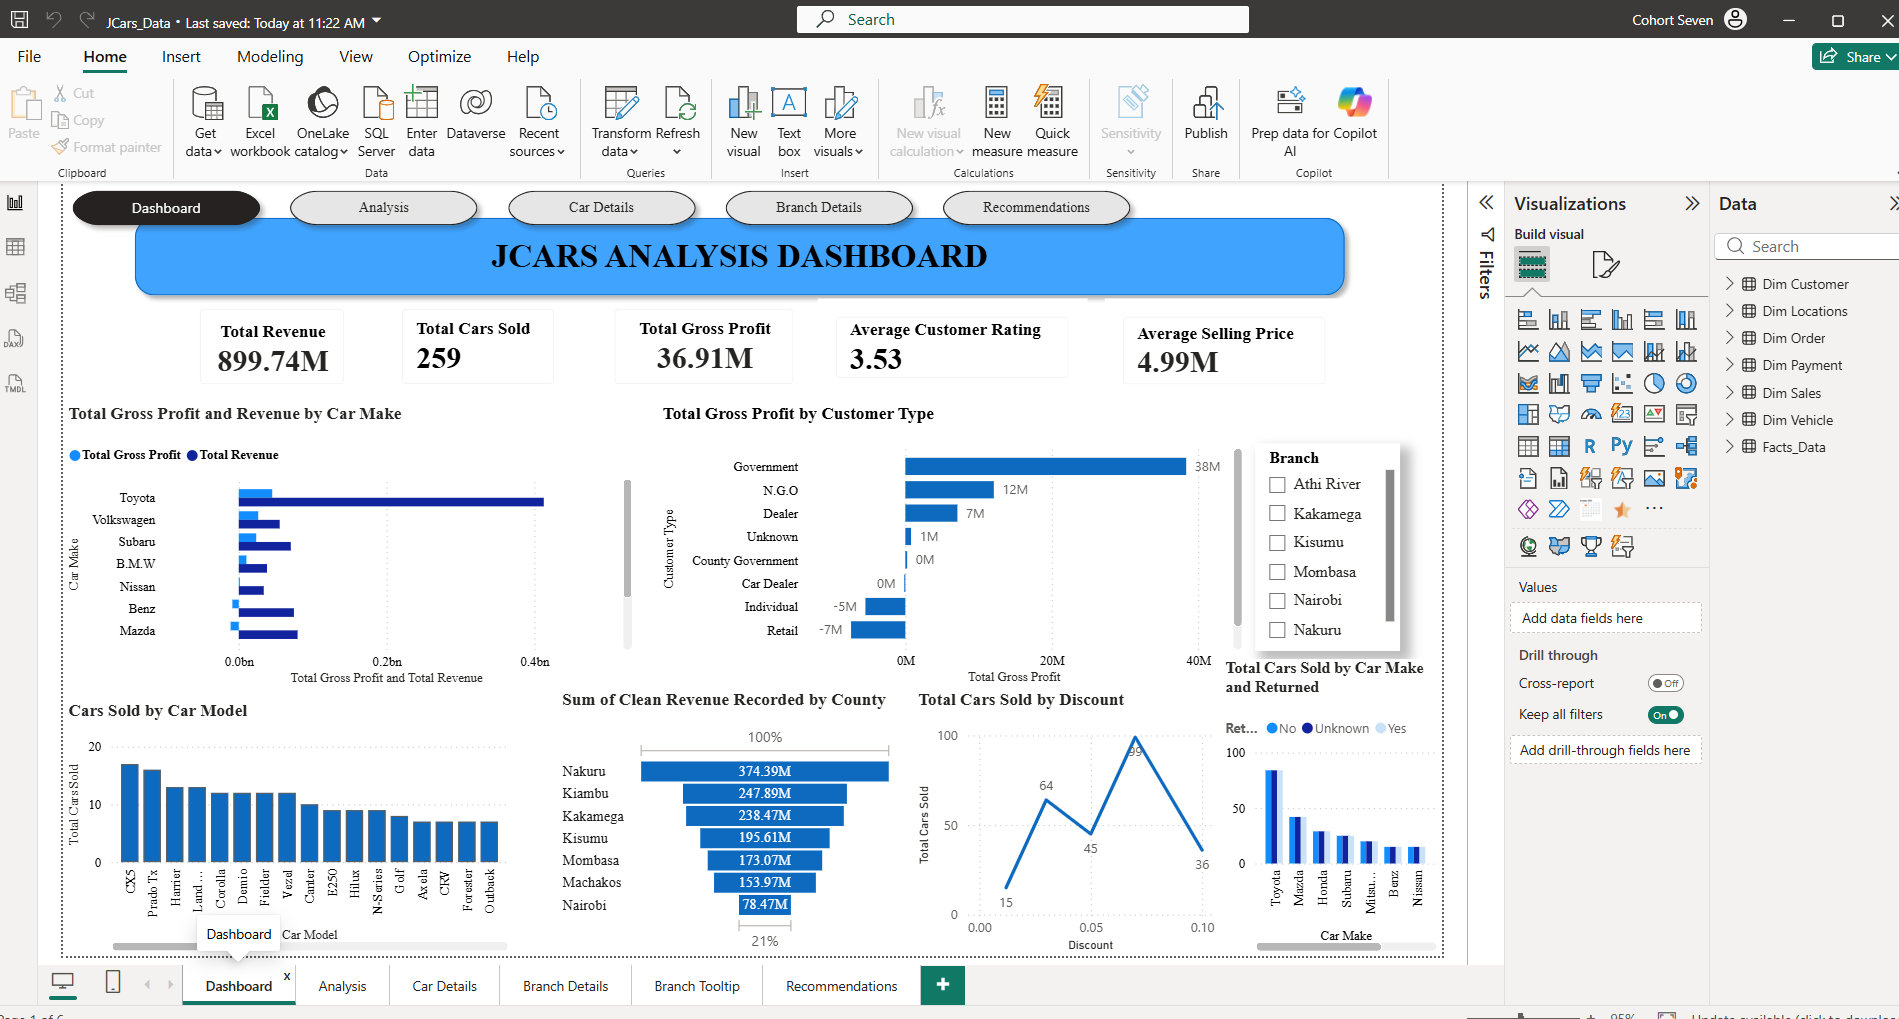

Layout of this report page (visuals, bound fields, positions):
{"tool":"powerbi","page":{"name":"Dashboard","canvas":[1280,720],"ordinal":0},"visuals":[{"type":"cardVisual","fields":{"Data":["Dim Customer.Total Revenue"]},"box":[110.2,101.8,168.9,104.9],"z":0},{"type":"cardVisual","fields":{"Data":["Dim Customer.Total Cars Sold"]},"box":[297.9,101.8,175.2,104.9],"z":1000},{"type":"cardVisual","fields":{"Data":["Dim Customer.Total Gross Profit"]},"box":[495.2,101.8,200.4,104.9],"z":2000},{"type":"clusteredColumnChart","title":"Cars Sold by Car Model","fields":{"Category":["Dim Vehicle.Car Model"],"Y":["Dim Customer.Total Cars Sold"]},"box":[0,482.6,417.5,237.1],"z":3000},{"type":"clusteredBarChart","title":"Total Gross Profit and Revenue by Car Make","fields":{"Category":["Dim Vehicle.Car Make"],"Y":["Dim Customer.Total Gross Profit","Dim Customer.Total Revenue"]},"box":[0,206.7,532.9,265.4],"z":4000},{"type":"clusteredBarChart","fields":{"Category":["Dim Customer.Customer Type"],"Y":["Dim Customer.Total Gross Profit"]},"box":[551.8,206.7,547.6,265.4],"z":5000},{"type":"lineChart","fields":{"Category":["Dim Payment.Discount"],"Y":["Dim Customer.Total Cars Sold"]},"box":[788.9,472.1,285.3,247.6],"z":6000},{"type":"shape","box":[57.7,25.2,1141.1,90],"z":7000},{"type":"slicer","fields":{"Values":["Dim Locations.Branch"]},"box":[1106.8,243.4,134.3,193],"z":9000},{"type":"clusteredColumnChart","fields":{"Category":["Dim Vehicle.Car Make"],"Series":["Dim Order.Returned"],"Y":["Dim Customer.Total Cars Sold"]},"box":[1074.2,443.8,205.6,275.9],"z":10000},{"type":"cardVisual","fields":{"Data":["Dim Customer.Average Customer Rating"]},"box":[700.8,109.1,250.7,91.3],"z":11000},{"type":"cardVisual","fields":{"Data":["Dim Customer.Average Selling Price"]},"box":[967.2,109.1,222.4,97.6],"z":12000},{"type":"pageNavigator","box":[0,0,1000,50],"z":13000},{"type":"funnel","fields":{"Category":["Dim Locations.County"],"Y":["Sum(Facts_Data.Clean Revenue Recorded)"]},"box":[458.4,472.1,317.9,247.6],"z":13001}]}

Visuals, with their boxes on the page's 1280x720 design canvas (x1, y1, x2, y2). These are canvas units, not pixel positions in the 1899x1019 screenshot, which may show the page scaled, cropped or inside an application window:
cardVisual - Dim Customer.Total Revenue: {"left": 110, "top": 102, "right": 279, "bottom": 207}
cardVisual - Dim Customer.Total Cars Sold: {"left": 298, "top": 102, "right": 473, "bottom": 207}
cardVisual - Dim Customer.Total Gross Profit: {"left": 495, "top": 102, "right": 696, "bottom": 207}
"Cars Sold by Car Model" clusteredColumnChart: {"left": 0, "top": 483, "right": 418, "bottom": 720}
"Total Gross Profit and Revenue by Car Make" clusteredBarChart: {"left": 0, "top": 207, "right": 533, "bottom": 472}
clusteredBarChart - Dim Customer.Customer Type x Dim Customer.Total Gross Profit: {"left": 552, "top": 207, "right": 1099, "bottom": 472}
lineChart - Dim Payment.Discount x Dim Customer.Total Cars Sold: {"left": 789, "top": 472, "right": 1074, "bottom": 720}
shape: {"left": 58, "top": 25, "right": 1199, "bottom": 115}
slicer - Dim Locations.Branch: {"left": 1107, "top": 243, "right": 1241, "bottom": 436}
clusteredColumnChart - Dim Vehicle.Car Make x Dim Order.Returned: {"left": 1074, "top": 444, "right": 1280, "bottom": 720}
cardVisual - Dim Customer.Average Customer Rating: {"left": 701, "top": 109, "right": 952, "bottom": 200}
cardVisual - Dim Customer.Average Selling Price: {"left": 967, "top": 109, "right": 1190, "bottom": 207}
pageNavigator: {"left": 0, "top": 0, "right": 1000, "bottom": 50}
funnel - Dim Locations.County x Sum(Facts_Data.Clean Revenue Recorded): {"left": 458, "top": 472, "right": 776, "bottom": 720}
